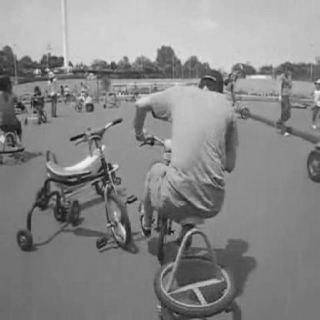other: (15, 93, 142, 245)
